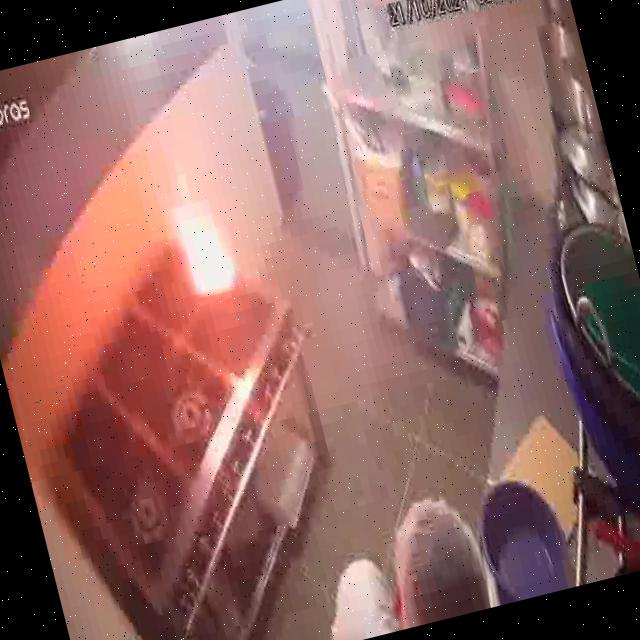fire: (154, 172, 242, 302)
